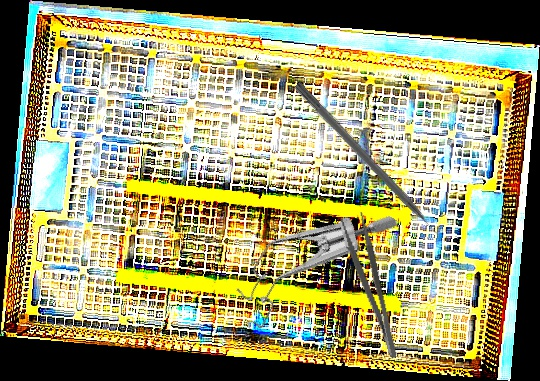Dressing Forceps: (339, 210, 401, 364)
Pusher: (291, 80, 449, 248)
Speculum: (221, 167, 400, 366)
